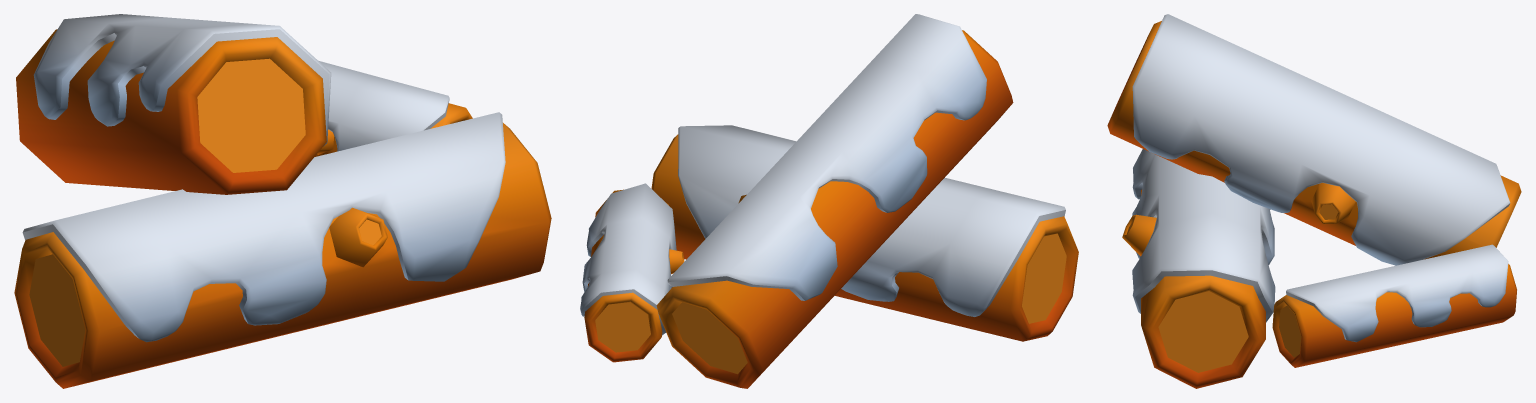
The model's file is Wood_w.fbx.
3 views of the same model, side by side, from view 1: azimuth 30°, elevation 25°; view 2: azimuth 150°, elevation 25°; view 3: azimuth 270°, elevation 25° (orthographic). The views are drawn at different scales.
Parts seen in each view (by area): view 1: Wood_w; view 2: Wood_w; view 3: Wood_w.
Part boxes in pixels (x1,y1,x2,y2): Wood_w: (14,14,551,388); Wood_w: (580,14,1078,388); Wood_w: (1107,14,1521,388).
Bounding box in the file's own units: 75.51 × 49.5 × 72.28.
